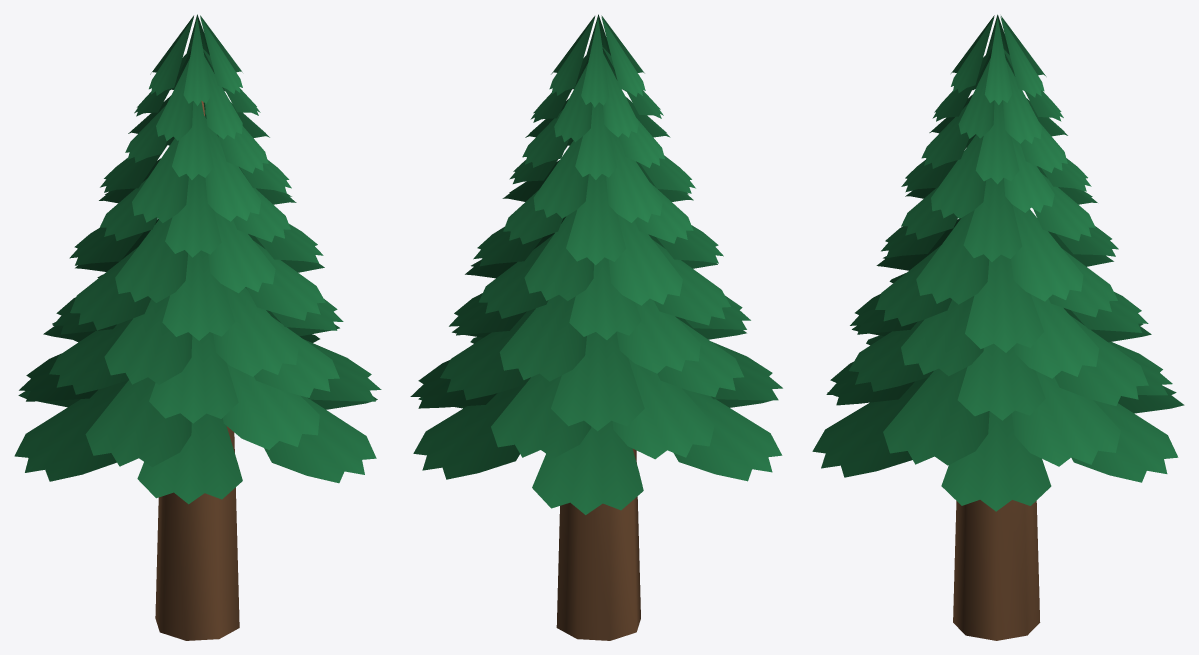
File: pine_umbrella.gltf
3 views of the same model, side by side, from view 1: azimuth 30°, elevation 25°; view 2: azimuth 150°, elevation 25°; view 3: azimuth 270°, elevation 25° (orthographic).
Parts seen in each view (by area): view 1: pine_umbrella; view 2: pine_umbrella; view 3: pine_umbrella.
Boxes of the visible parts, x1,y1,x2,y2 form: pine_umbrella: (14, 14, 381, 640); pine_umbrella: (410, 14, 782, 640); pine_umbrella: (812, 14, 1184, 640).
Size of the model in its own units: 4.87 by 8.22 by 4.57.
